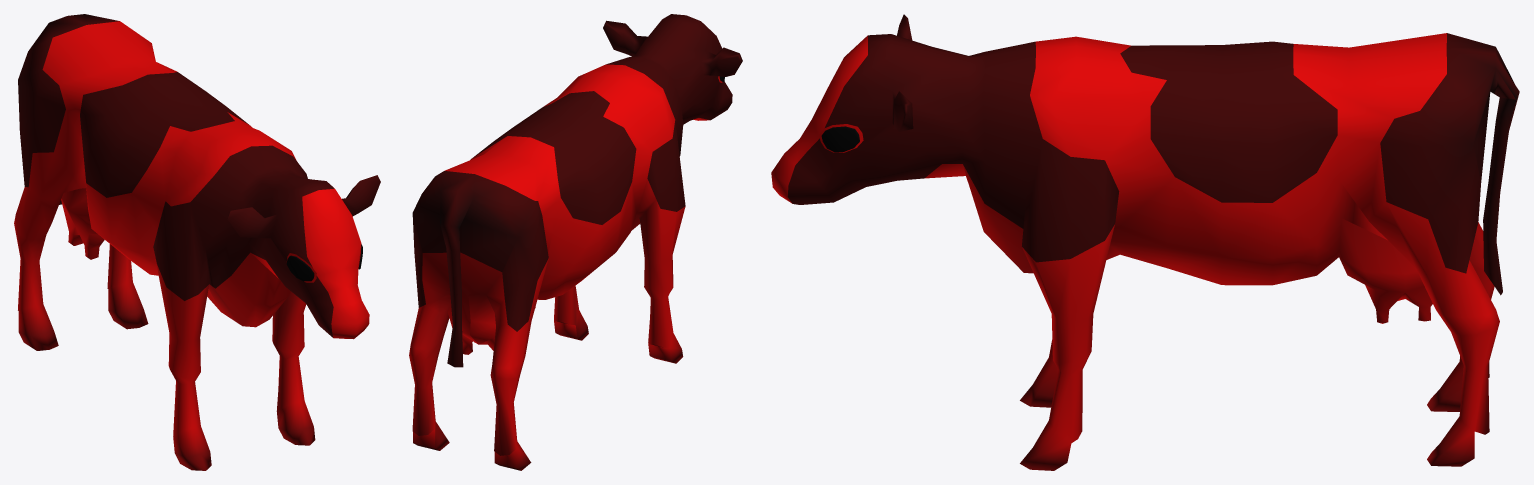
The model's file is cow_colored.fbx.
3 views of the same model, side by side, from view 1: azimuth 30°, elevation 25°; view 2: azimuth 150°, elevation 25°; view 3: azimuth 270°, elevation 25° (orthographic). The views are drawn at different scales.
Parts seen in each view (by area): view 1: cow_colored; view 2: cow_colored; view 3: cow_colored.
Part boxes in pixels (box(x1,y1,x2,y2)): cow_colored: box(14, 14, 380, 470); cow_colored: box(409, 14, 742, 470); cow_colored: box(771, 14, 1519, 470).
Size of the model in its own units: 802 by 2714 by 1564.
